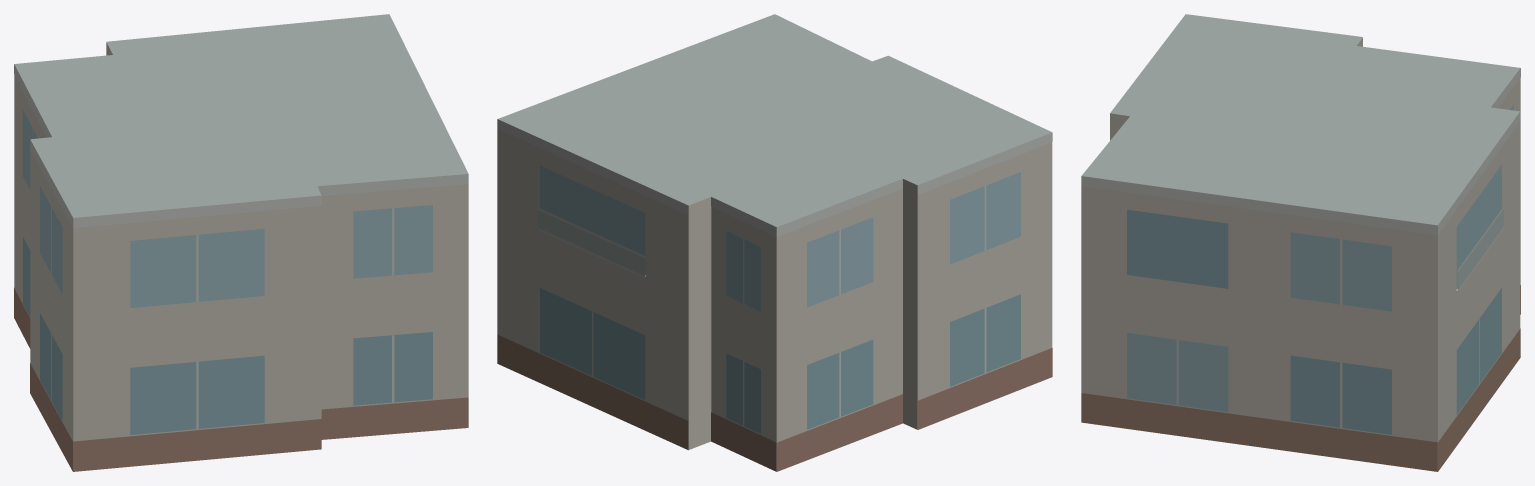
Rendered from survey-upis-32688652.glb.
3 views of the same model, side by side, from view 1: azimuth 30°, elevation 25°; view 2: azimuth 150°, elevation 25°; view 3: azimuth 270°, elevation 25° (orthographic). The views are drawn at different scales.
Visible parts, largest first — view 1: survey-upis-32688652.tmp; view 2: survey-upis-32688652.tmp; view 3: survey-upis-32688652.tmp.
Boxes of the visible parts, x1,y1,x2,y2 form: survey-upis-32688652.tmp: [14, 14, 468, 471]; survey-upis-32688652.tmp: [497, 14, 1052, 471]; survey-upis-32688652.tmp: [1081, 14, 1520, 471].
Size of the model in its own units: 11.23 by 6.1 by 9.86.
